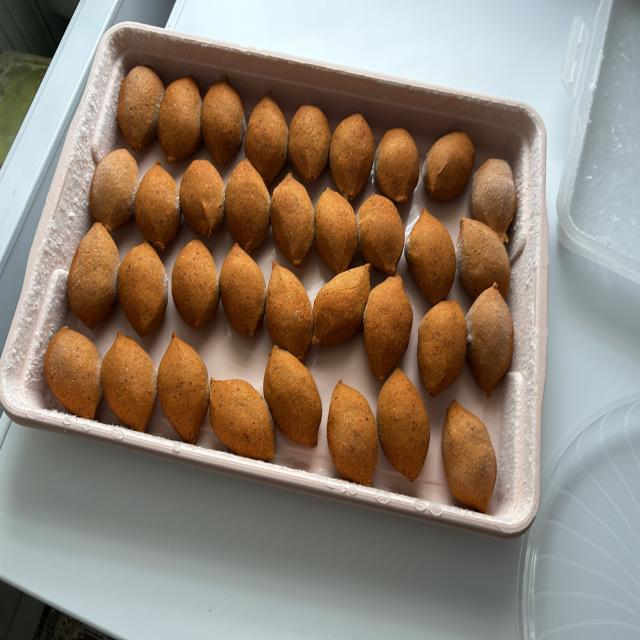kobi: (443, 397, 497, 511), (66, 220, 121, 326), (206, 378, 282, 454), (381, 365, 429, 484), (265, 348, 321, 448), (43, 329, 105, 419), (468, 280, 514, 397), (365, 272, 413, 380), (270, 154, 314, 270), (312, 261, 374, 343), (160, 338, 214, 432), (408, 208, 460, 302), (106, 330, 156, 426), (331, 376, 375, 484), (219, 244, 265, 341), (357, 185, 406, 275), (90, 143, 139, 233), (120, 244, 167, 336), (173, 238, 221, 327), (471, 157, 523, 238), (228, 147, 267, 252), (424, 300, 468, 390), (269, 260, 309, 357), (164, 73, 206, 165), (184, 148, 228, 235), (424, 130, 480, 197), (120, 65, 164, 149), (320, 181, 360, 273), (203, 87, 249, 161), (143, 159, 180, 251), (331, 115, 373, 195), (380, 124, 421, 202), (248, 92, 284, 177), (291, 104, 333, 176)
